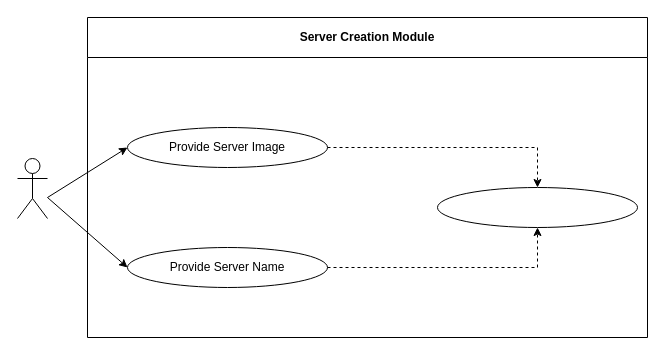
Image size: 665x355. Some labels were removed from this diagram. Here are the shapes that lost their labels. From the top down, the centre of each, then its label:
pixel 32 188: User
pixel 537 207: Create Server
